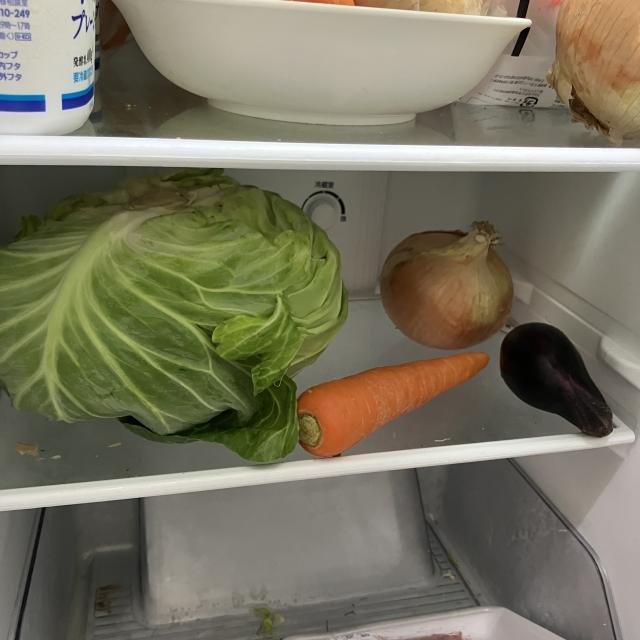cabbage: (1, 173, 353, 472)
carrot: (294, 351, 493, 462)
eggplant: (498, 322, 616, 442)
onion: (380, 219, 518, 350), (550, 1, 640, 147)
